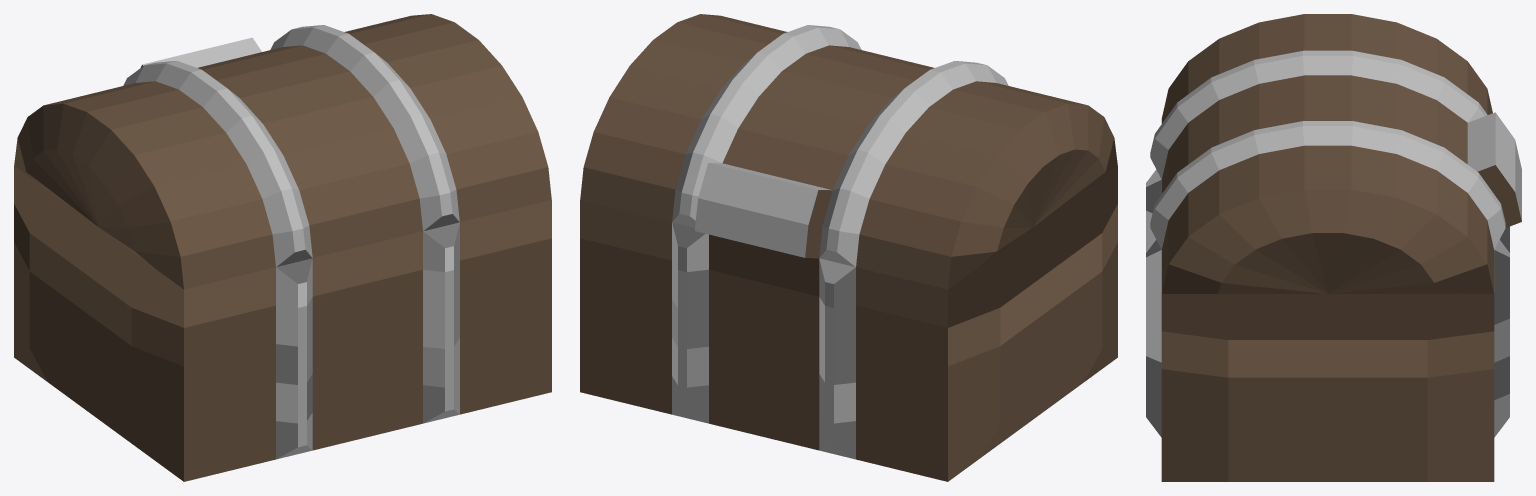
The model's file is Chest.fbx.
3 views of the same model, side by side, from view 1: azimuth 30°, elevation 25°; view 2: azimuth 150°, elevation 25°; view 3: azimuth 270°, elevation 25° (orthographic). The views are drawn at different scales.
Visible parts, largest first — view 1: Cube, Cylinder; view 2: Cube, Cylinder; view 3: Cylinder, Cube.
Boxes of the visible parts, x1,y1,x2,y2 form: Cube: [14, 165, 551, 481]; Cylinder: [14, 14, 551, 289]; Cube: [580, 165, 1117, 481]; Cylinder: [580, 14, 1117, 289]; Cylinder: [1150, 14, 1521, 293]; Cube: [1146, 118, 1509, 481].
Size of the model in its own units: 110 by 81.19 by 90.47.
